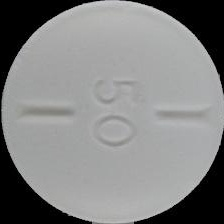67544-884: (0, 0, 224, 224)
